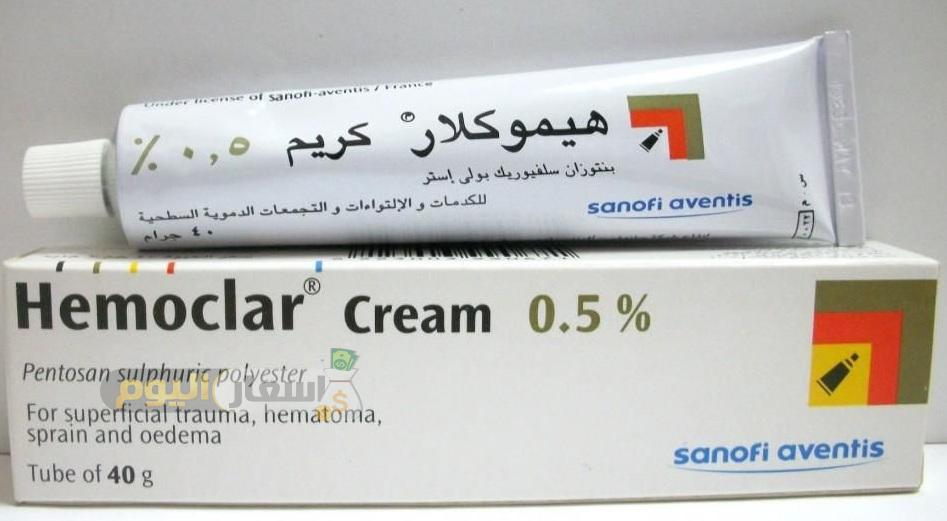Medicine: (10, 243, 943, 506), (24, 23, 886, 257)
